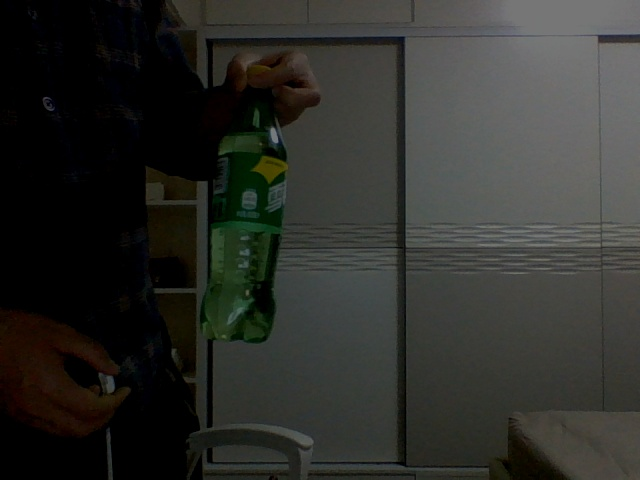Sprite: (199, 65, 289, 342)
